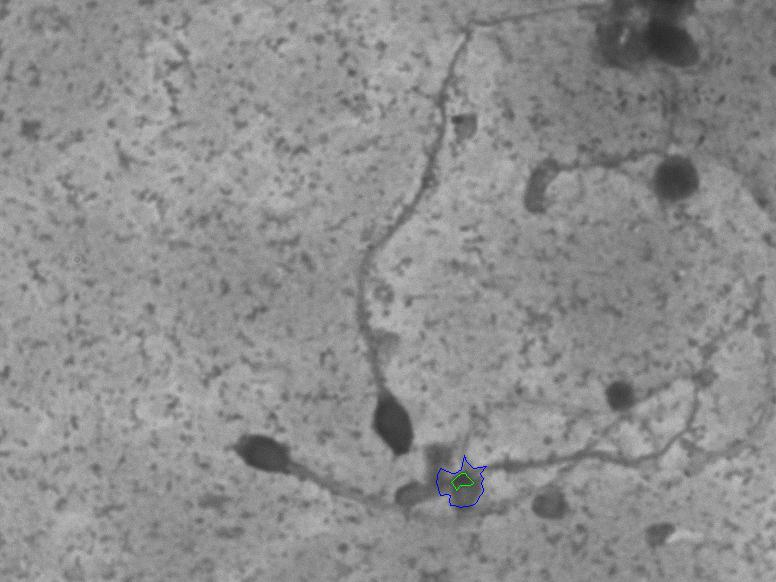Normal: (210, 273, 771, 538), (343, 5, 557, 467)
